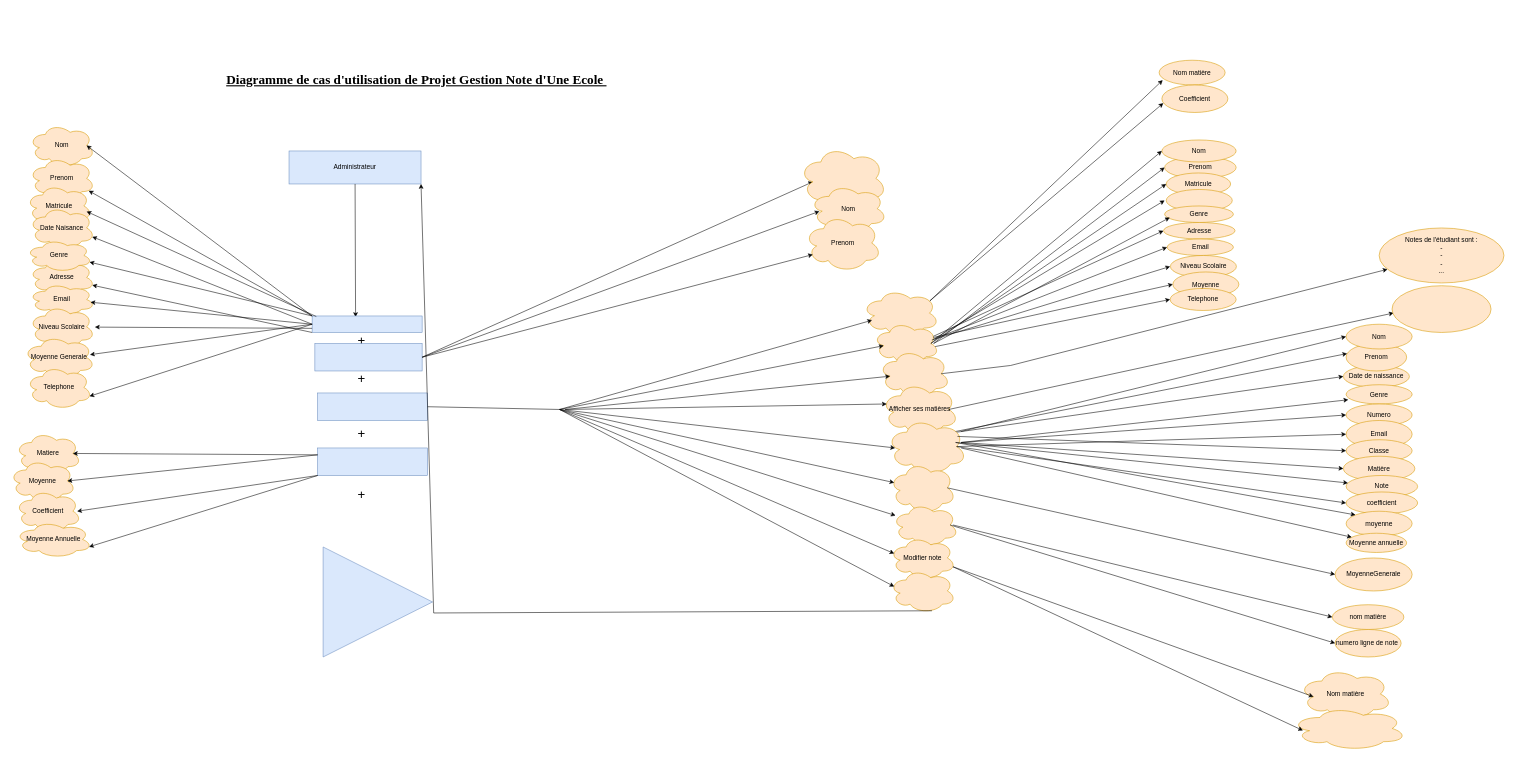
Image size: 1514x760. Some labels were removed from this diagram. Each missing label, with the box of its shape:
Afficher Classe: (314, 343, 422, 371)
Afficher ses informations: (873, 321, 939, 365)
Afficher son bulletin: (886, 417, 967, 475)
Afficher toutes ses notes: (878, 348, 950, 398)
Ajouter un étudiant: (312, 315, 422, 332)
Ajouter une matière: (862, 288, 939, 338)
Calcul moyenne: (889, 461, 956, 514)
Calculer moyenne de tout les etudiant: (317, 447, 428, 475)
Date Naissance: (1166, 189, 1232, 211)
Gerer Etudiant: (317, 392, 428, 420)
La matricule de l'étudiant EXEMPLE P2244: (798, 145, 887, 211)
Les Matières sont: - - -......: (1392, 285, 1491, 332)
NumeroLigneDeNote: (1291, 706, 1407, 750)
Quitter Application: (323, 546, 433, 657)
Retourner menu principal: (889, 568, 956, 613)
Supprimer notes etudiant: (892, 502, 958, 547)
